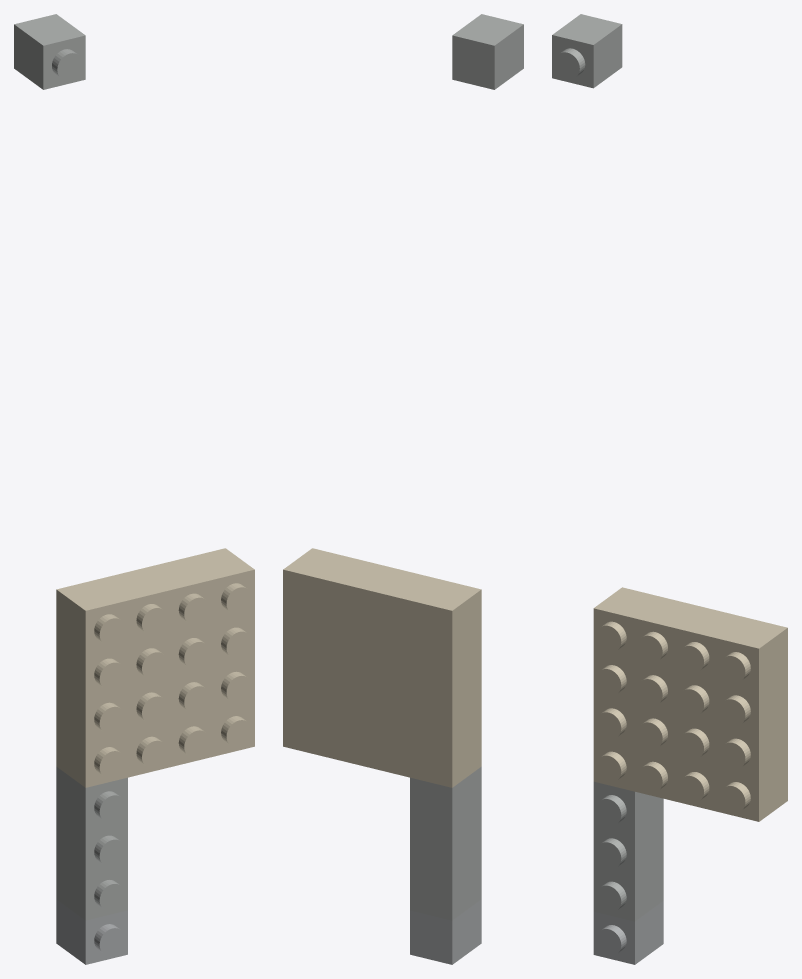
Rendered from current.glb.
3 views of the same model, side by side, from view 1: azimuth 30°, elevation 25°; view 2: azimuth 150°, elevation 25°; view 3: azimuth 330°, elevation 25° (orthographic). The views are drawn at different scales.
Parts seen in each view (by area): view 1: world; view 2: world; view 3: world.
Boxes of the visible parts, left/top/right/bottom form: world: left=14, top=14, right=254, bottom=964; world: left=283, top=14, right=523, bottom=964; world: left=552, top=14, right=787, bottom=964.
Size of the model in its own units: 40 by 168 by 11.4.
